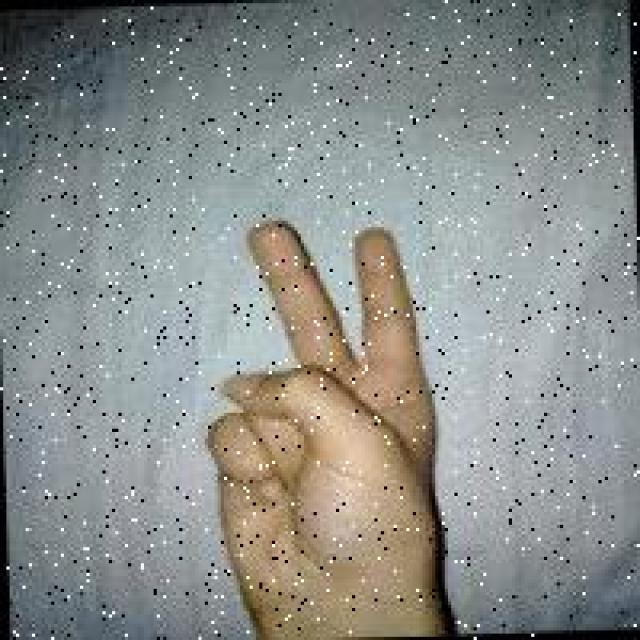V: (182, 213, 452, 622)
